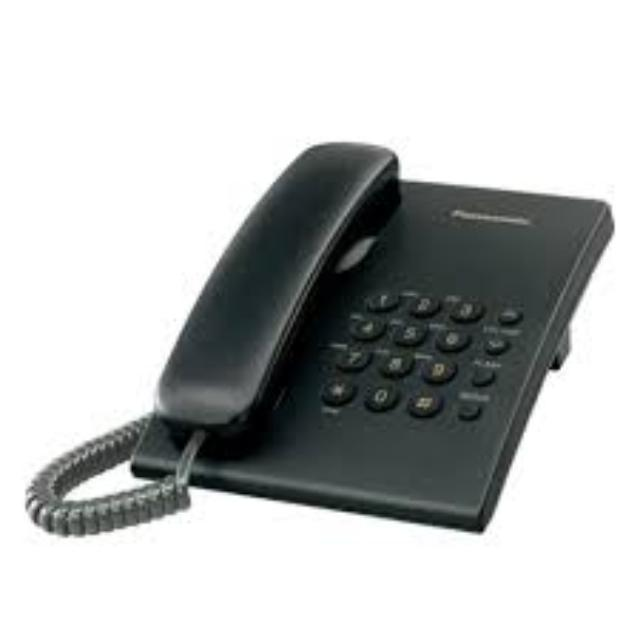Telephone-Set: (46, 99, 622, 575)
